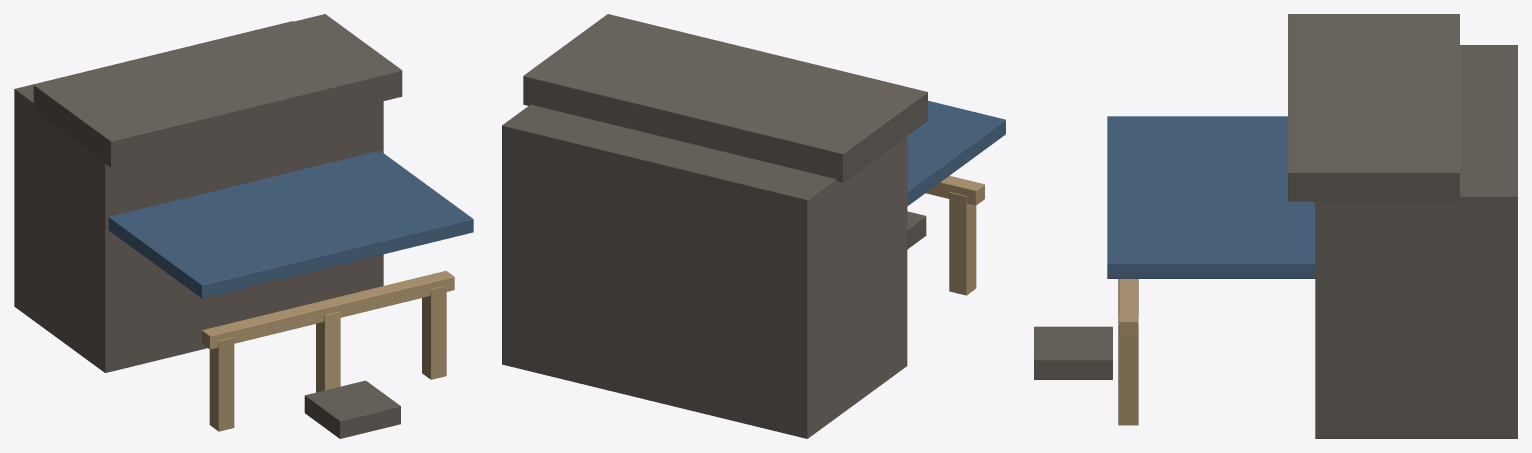
The model's file is House_Paleo_d.fbx.
3 renders of one model, left to right at view 1: azimuth 30°, elevation 25°; view 2: azimuth 150°, elevation 25°; view 3: azimuth 270°, elevation 25°, orthographic. The views are drawn at different scales.
Parts seen in each view (by area): view 1: House_Paleo_d; view 2: House_Paleo_d; view 3: House_Paleo_d.
Part boxes in pixels (x1,y1,x2,y2): House_Paleo_d: (14, 14, 473, 438); House_Paleo_d: (502, 14, 1005, 438); House_Paleo_d: (1034, 14, 1517, 438).
Size of what is drawn, in the model's own units: 4.05 by 3.21 by 5.22.
